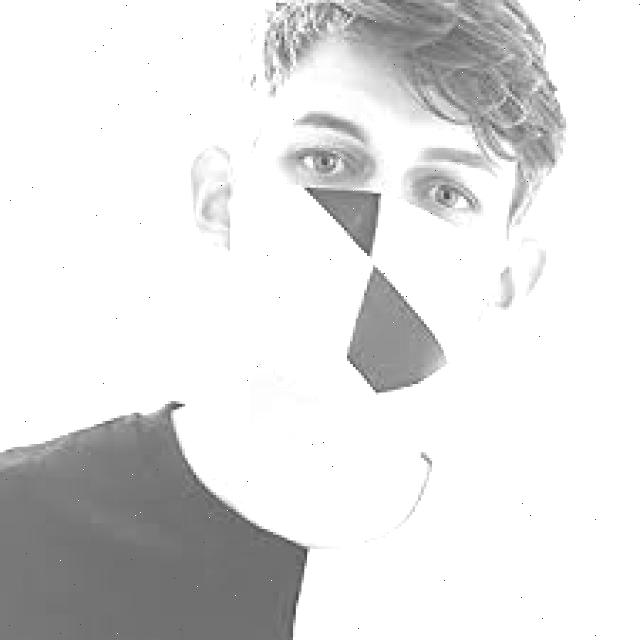fake: (206, 152, 518, 406)
real: (219, 51, 515, 408)
